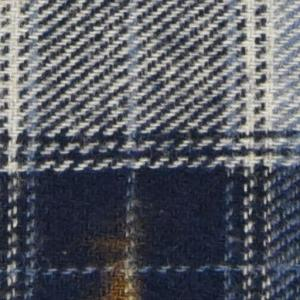Oil Stain: (76, 215, 153, 300)
